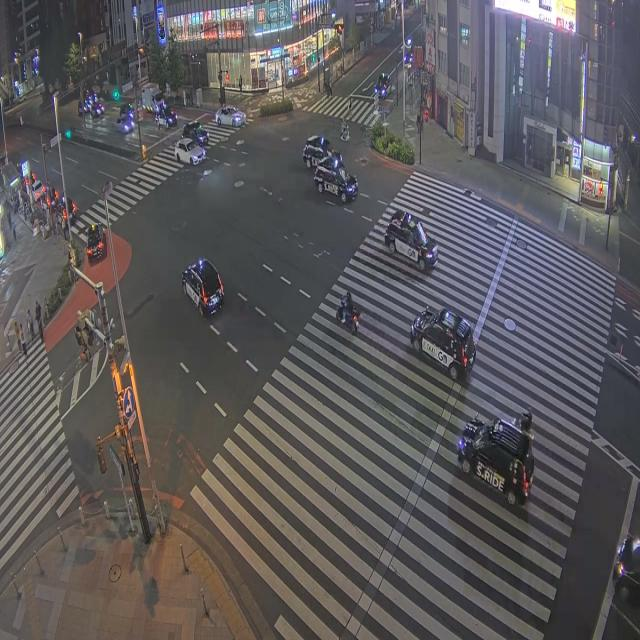car: (458, 416, 534, 505), (410, 308, 475, 380), (385, 210, 437, 270), (182, 258, 223, 315), (314, 157, 357, 202), (613, 536, 639, 600), (302, 136, 342, 167), (175, 138, 205, 165), (86, 224, 106, 261), (53, 196, 78, 225), (215, 106, 246, 127), (183, 121, 208, 146), (374, 73, 390, 98), (85, 93, 104, 114), (156, 108, 177, 127), (120, 103, 142, 121), (114, 115, 134, 134), (32, 181, 46, 201), (120, 103, 136, 118), (89, 103, 104, 118), (78, 100, 89, 116)
motorcycle: (336, 306, 359, 334), (340, 126, 350, 143)
truck: (142, 84, 162, 112)
